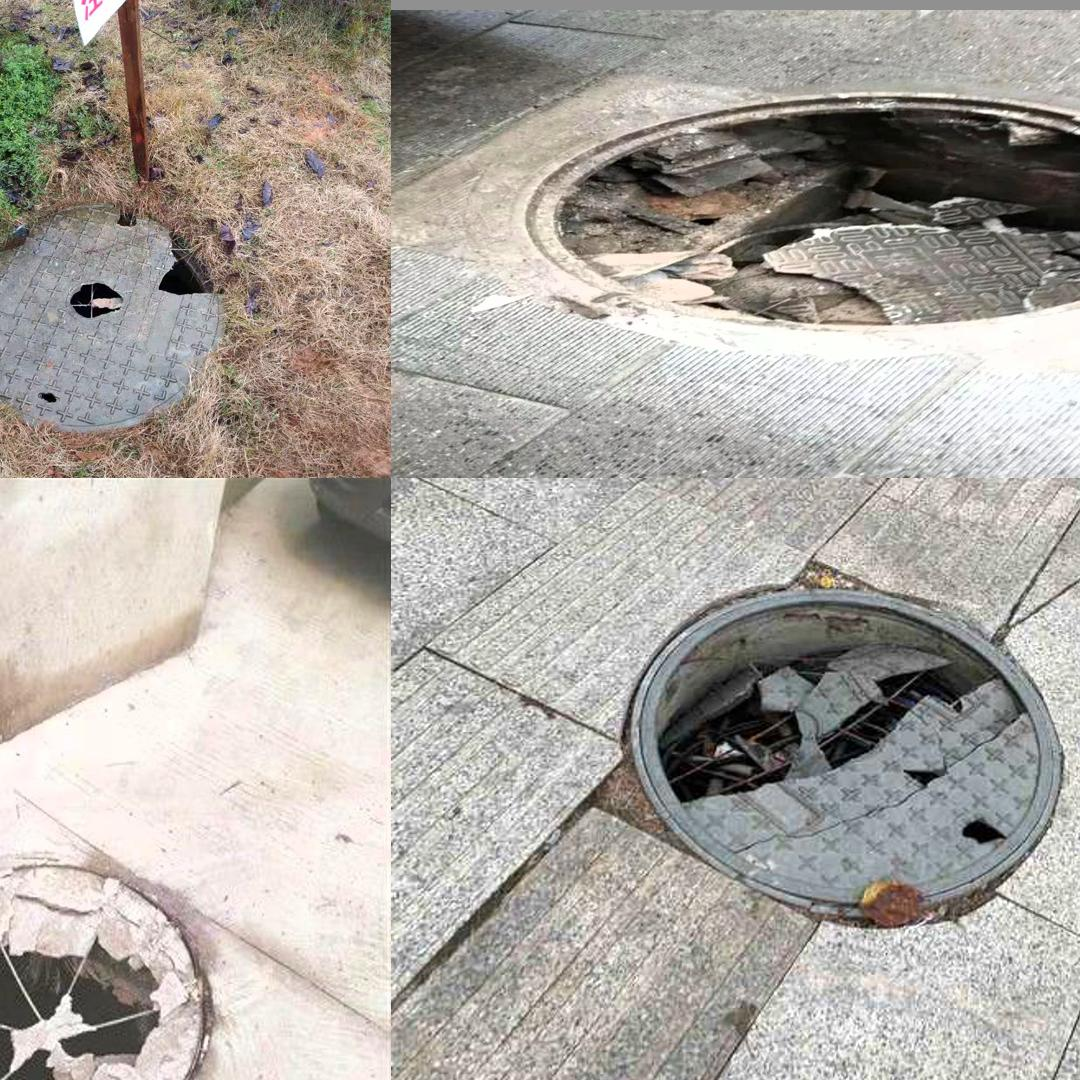broke: (617, 577, 1080, 934), (519, 83, 1080, 354), (0, 832, 242, 1080), (0, 201, 224, 430)
